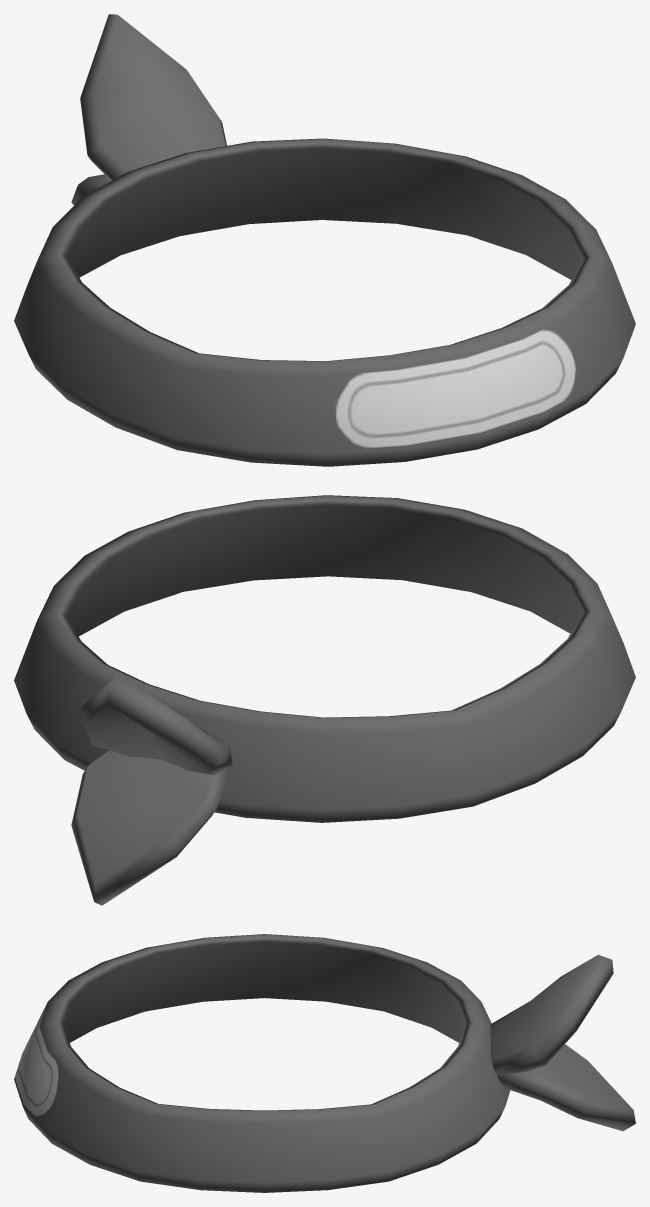
Rendered from headBand.fbx.
3 renders of one model, top to bottom at view 1: azimuth 30°, elevation 25°; view 2: azimuth 150°, elevation 25°; view 3: azimuth 270°, elevation 25°, orthographic. The views are drawn at different scales.
Parts seen in each view (by area): view 1: headband_mesh; view 2: headband_mesh; view 3: headband_mesh.
Part boxes in pixels (bbox=[...]): headband_mesh: bbox=[14, 14, 635, 466]; headband_mesh: bbox=[14, 495, 635, 905]; headband_mesh: bbox=[14, 934, 635, 1192].
Size of the model in its own units: 2.75 by 1.09 by 3.48.
